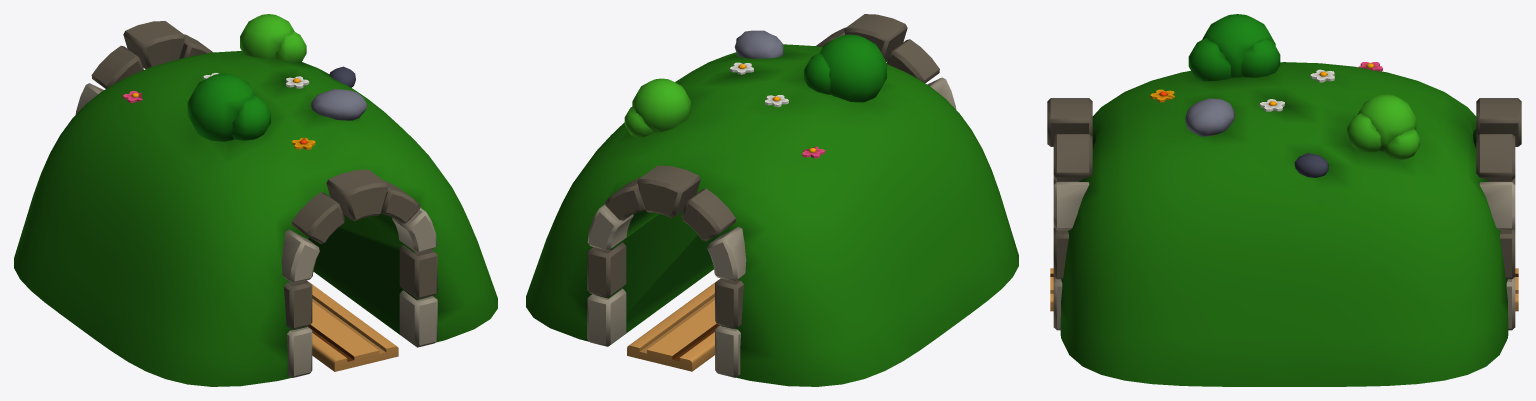
The model's file is Tunnel.fbx.
3 views of the same model, side by side, from view 1: azimuth 30°, elevation 25°; view 2: azimuth 150°, elevation 25°; view 3: azimuth 270°, elevation 25° (orthographic). The views are drawn at different scales.
Parts seen in each view (by area): view 1: Tunnel; view 2: Tunnel; view 3: Tunnel.
Part boxes in pixels (x1,y1,x2,y2): Tunnel: [14, 14, 497, 386]; Tunnel: [526, 14, 1018, 386]; Tunnel: [1047, 14, 1521, 386].
Size of the model in its own units: 5.59 by 3.52 by 6.08.
